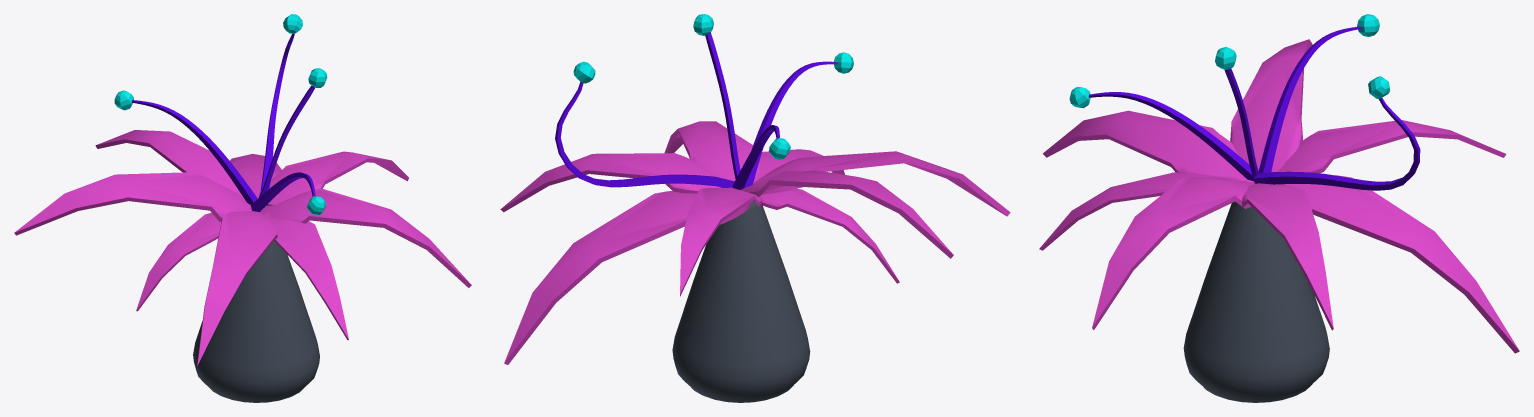
Rendered from Seed_Plant_VariantTHREE.fbx.
3 views of the same model, side by side, from view 1: azimuth 30°, elevation 25°; view 2: azimuth 150°, elevation 25°; view 3: azimuth 270°, elevation 25° (orthographic). The views are drawn at different scales.
Parts seen in each view (by area): view 1: PlantyPlantTHREE; view 2: PlantyPlantTHREE; view 3: PlantyPlantTHREE.
Boxes of the visible parts, left/top/right/bottom form: PlantyPlantTHREE: left=14, top=14, right=471, bottom=402; PlantyPlantTHREE: left=500, top=14, right=1010, bottom=402; PlantyPlantTHREE: left=1039, top=14, right=1519, bottom=402.
Size of the model in its own units: 1.68 by 1.25 by 1.51.
